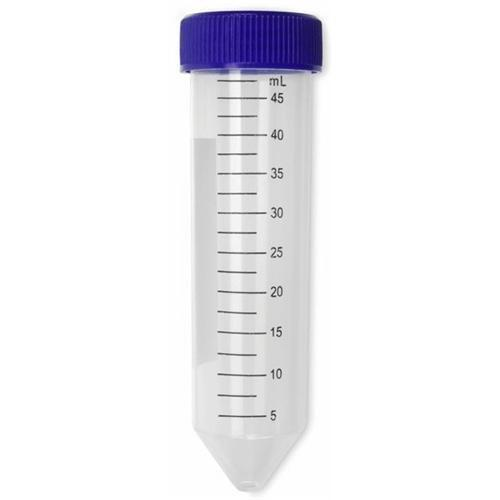Test tube: (157, 11, 320, 494)
